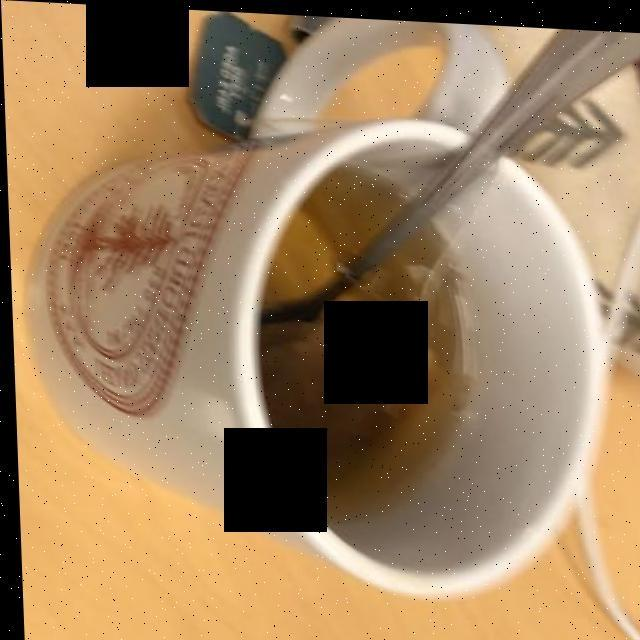tea: (262, 166, 469, 529)
